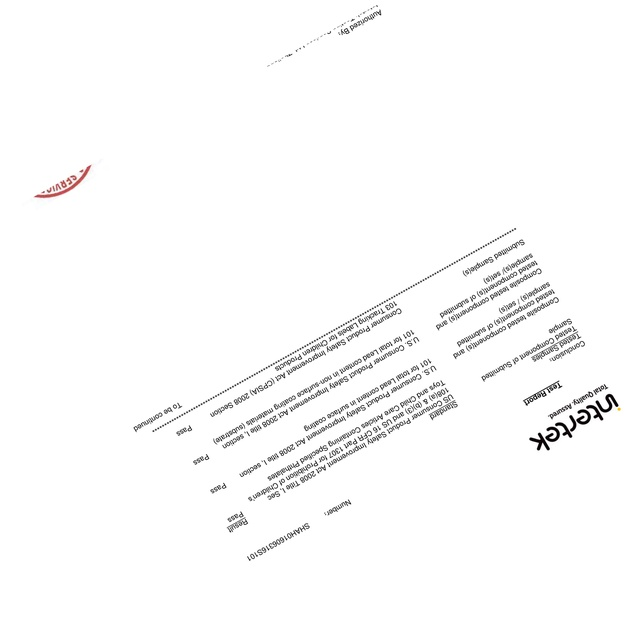intertek: (527, 391, 624, 452)
